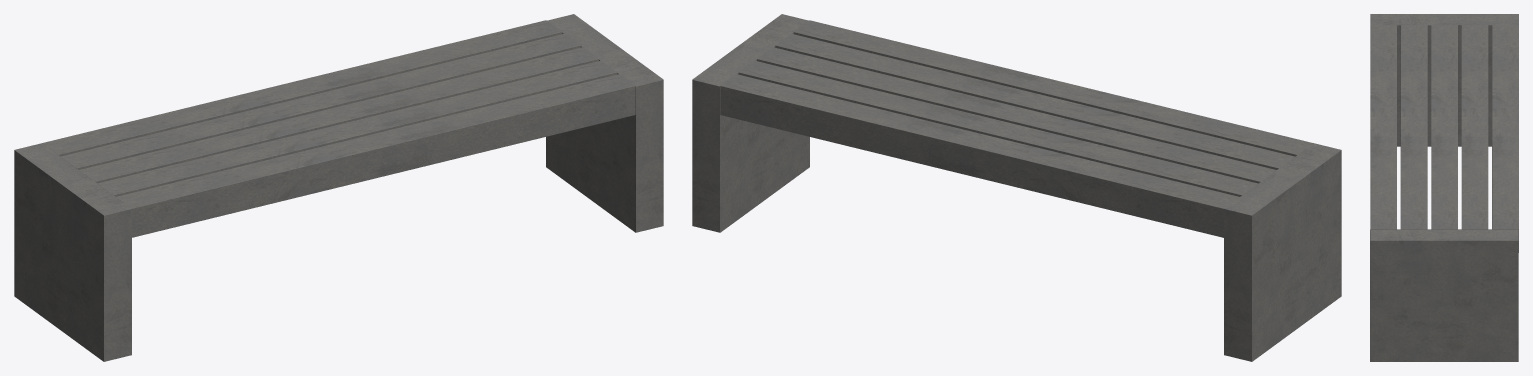
Rendered from Panchina.fbx.
3 views of the same model, side by side, from view 1: azimuth 30°, elevation 25°; view 2: azimuth 150°, elevation 25°; view 3: azimuth 270°, elevation 25° (orthographic). The views are drawn at different scales.
Parts seen in each view (by area): view 1: Cube.001; view 2: Cube.001; view 3: Cube.001.
Part boxes in pixels (box(x1,y1,x2,y2)): Cube.001: box(14, 14, 663, 361); Cube.001: box(692, 14, 1341, 361); Cube.001: box(1370, 14, 1518, 361).
Size of the model in its own units: 180 by 45.2 by 50.01.
